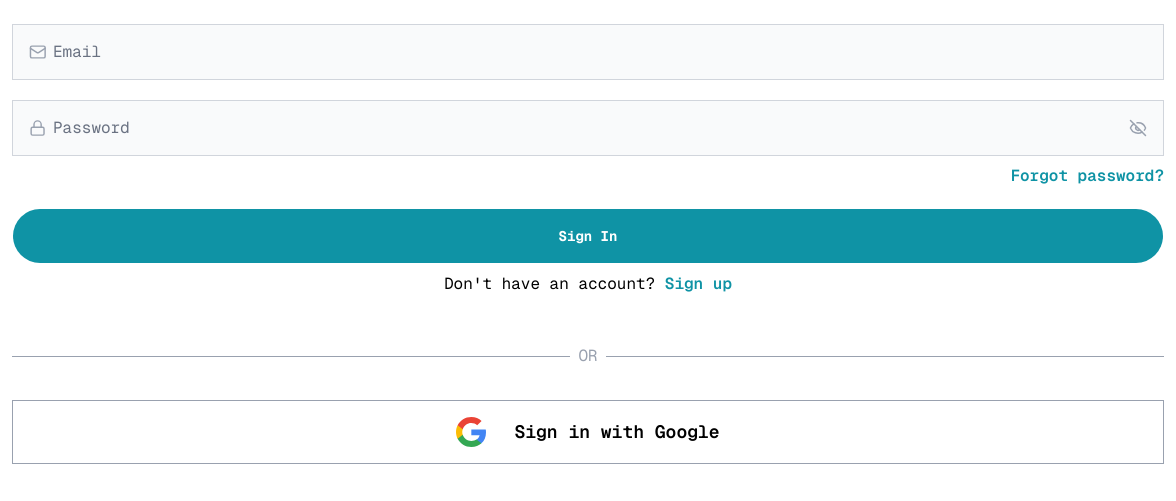
Scenario: LoginForm › shows validation error when the password is too short
The image size is (1176, 501).
Type "user@example.com" into the field with id "email".
click(601, 52); type("user@example.com")  # box [55,25,1147,79]
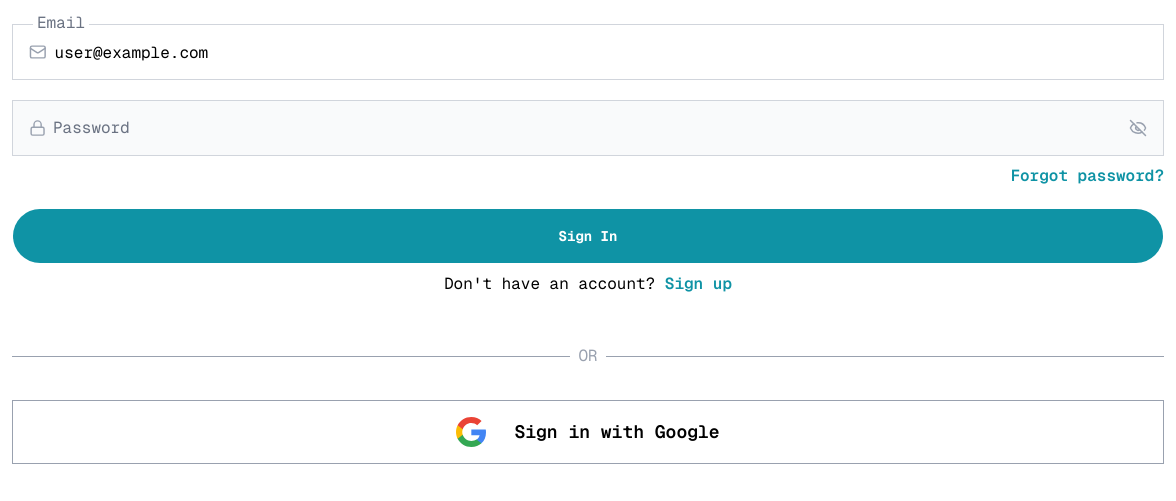
Type "123" into the password field.
click(588, 128); type("123")  # box [54,101,1121,155]
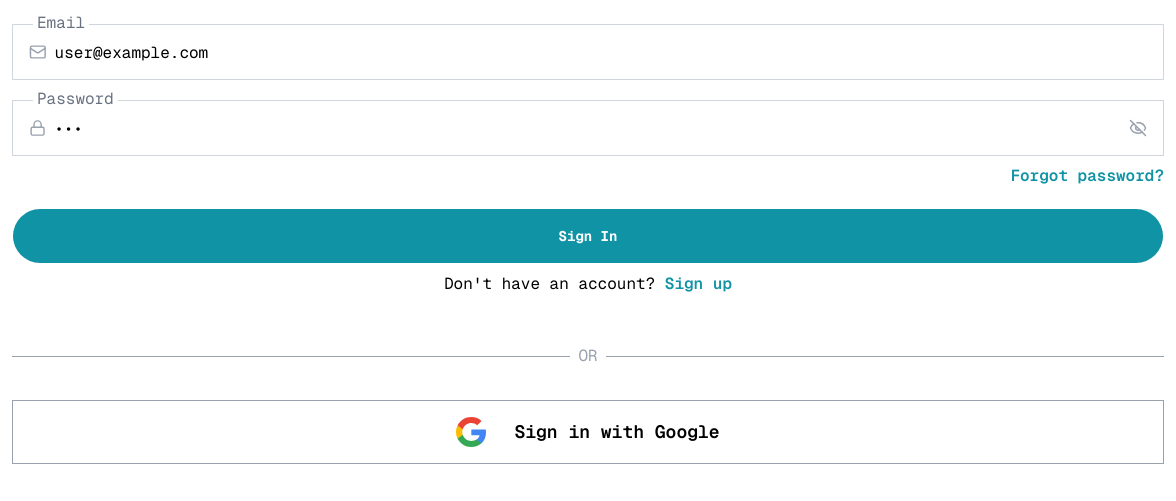
Click the button "Sign In".
click(588, 236)  # box [12,208,1164,264]
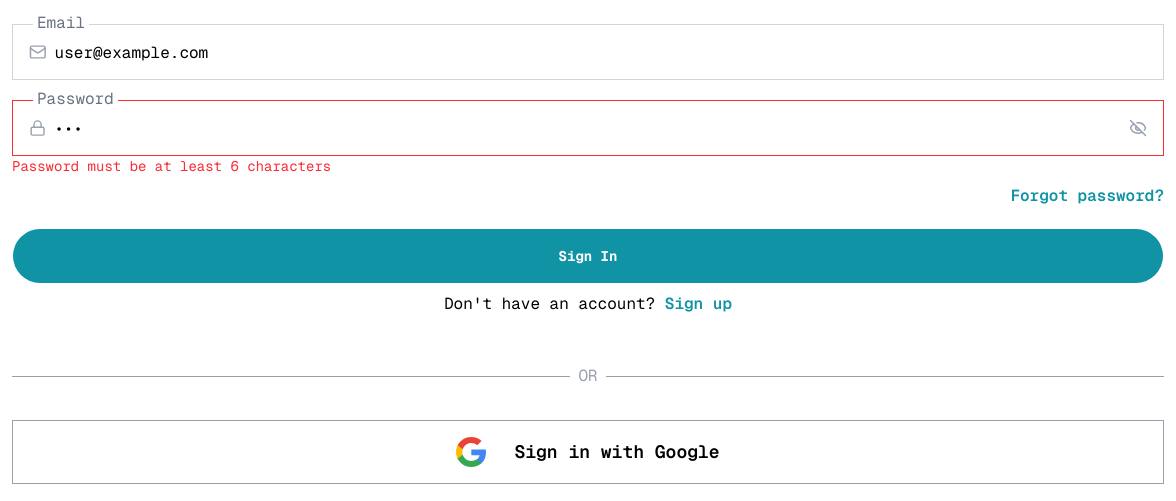
Expected: the text "Password must be at least 6 characters" is shown, [12,157,331,175]
